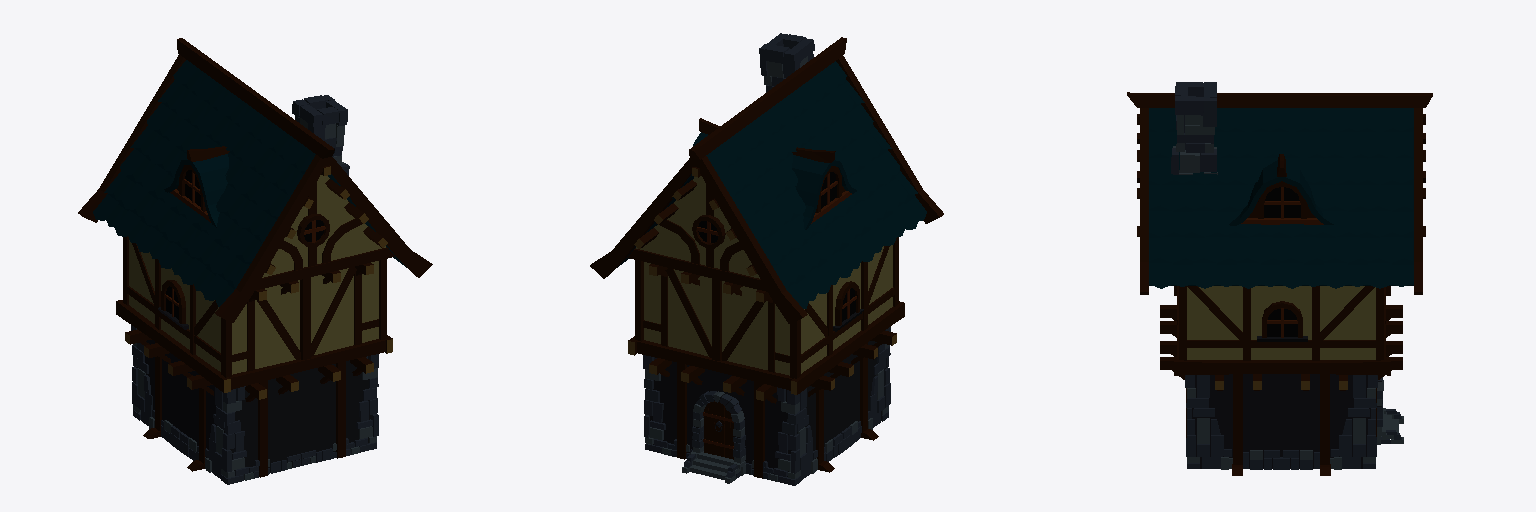
The model's file is House_1_Cube.obj.
The picture shows the model from 3 angles: view 1: azimuth 30°, elevation 25°; view 2: azimuth 150°, elevation 25°; view 3: azimuth 270°, elevation 25°; orthographic projection.
Visible parts, largest first — view 1: House_1_Cube.009; view 2: House_1_Cube.009; view 3: House_1_Cube.009.
Boxes of the visible parts, <box> form: House_1_Cube.009: <box>78,38,432,484</box>; House_1_Cube.009: <box>590,33,943,485</box>; House_1_Cube.009: <box>1127,82,1432,475</box>.
Bounding box in the file's own units: 2.14 × 3.39 × 2.66.